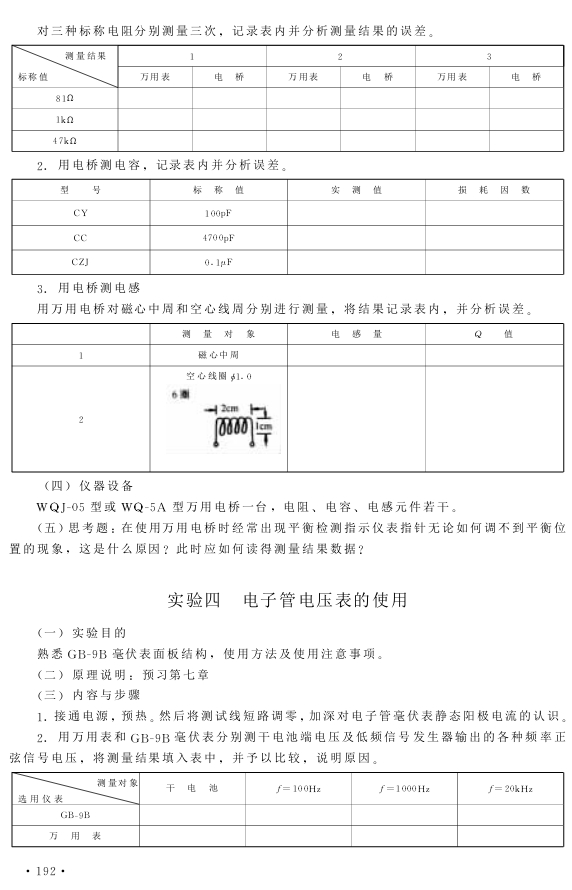table: (11, 322, 565, 473), (11, 44, 565, 152), (11, 178, 565, 275), (11, 771, 565, 848)
